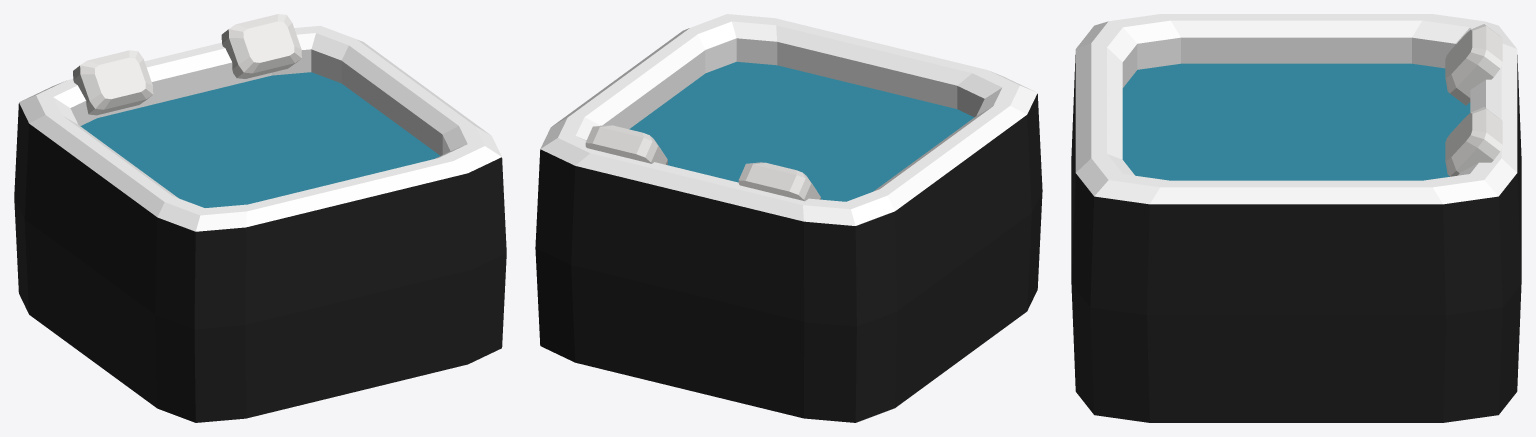
Rendered from SM_whirlpool.fbx.
The picture shows the model from 3 angles, left to right: view 1: azimuth 30°, elevation 25°; view 2: azimuth 150°, elevation 25°; view 3: azimuth 270°, elevation 25°; orthographic projection. The views are drawn at different scales.
Visible parts, largest first — view 1: Box5734; view 2: Box5734; view 3: Box5734.
Boxes of the visible parts, x1,y1,x2,y2 form: Box5734: (14, 14, 506, 422); Box5734: (535, 14, 1042, 422); Box5734: (1071, 14, 1521, 422).
Size of the model in its own units: 83.27 by 51.71 by 83.27.
